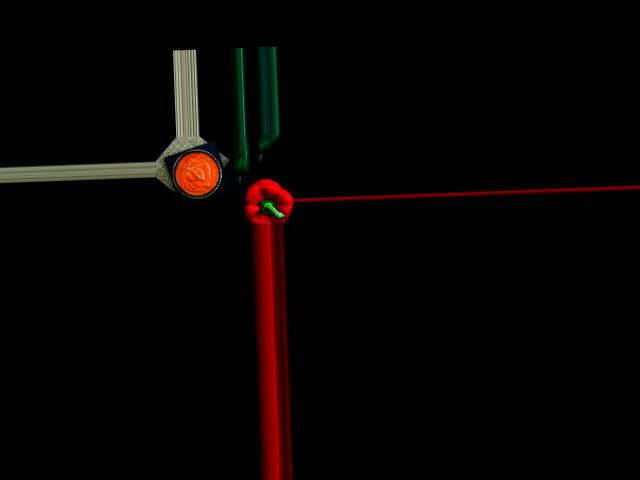bell_pepper: (243, 179, 292, 225)
